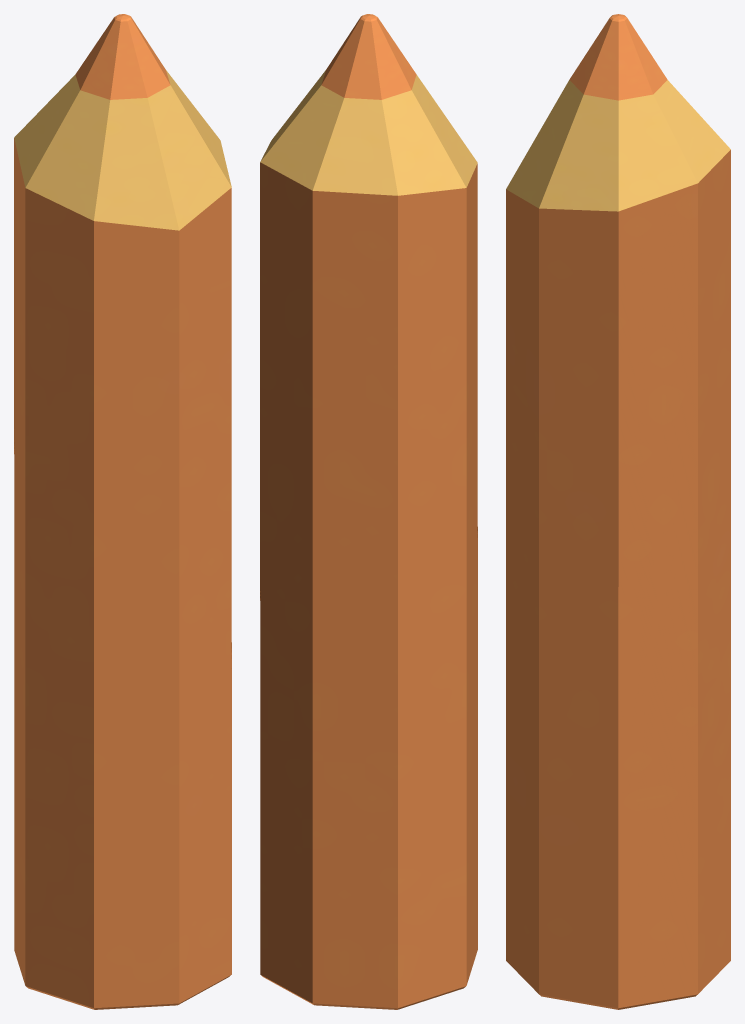
File: Pen_3.fbx
3 views of the same model, side by side, from view 1: azimuth 30°, elevation 25°; view 2: azimuth 150°, elevation 25°; view 3: azimuth 270°, elevation 25° (orthographic).
Parts seen in each view (by area): view 1: Cylinder.007; view 2: Cylinder.007; view 3: Cylinder.007.
Boxes of the visible parts, x1,y1,x2,y2 form: Cylinder.007: (14,14,231,1009); Cylinder.007: (260,14,477,1009); Cylinder.007: (506,14,730,1009).
Bounding box in the file's own units: 129 × 599 × 129.
